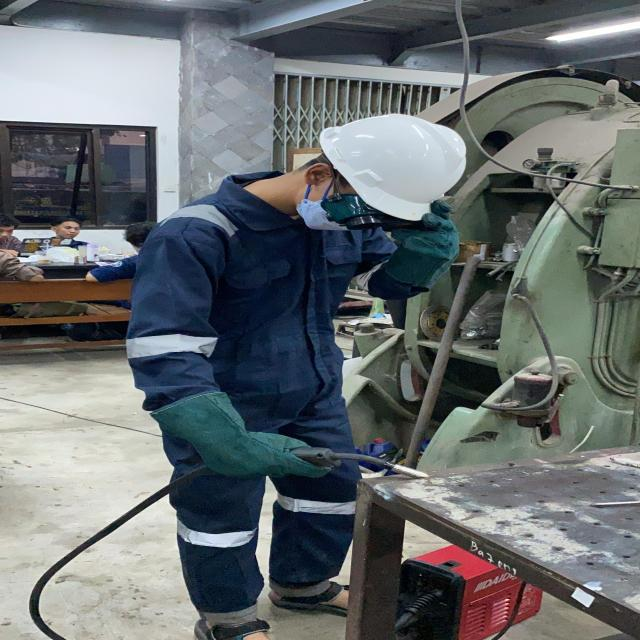glasses: (314, 190, 412, 240)
